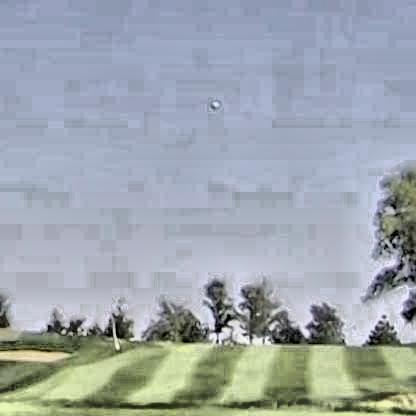golfball: (207, 98, 217, 107)
